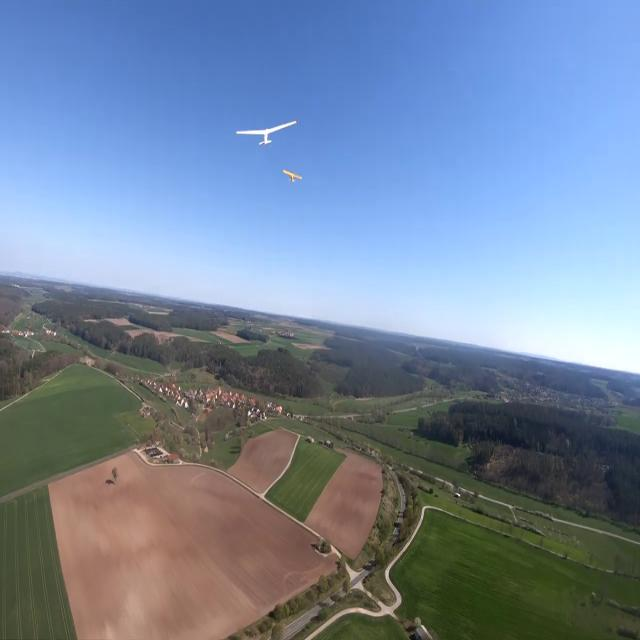iha: (281, 166, 305, 185), (266, 118, 272, 148)
